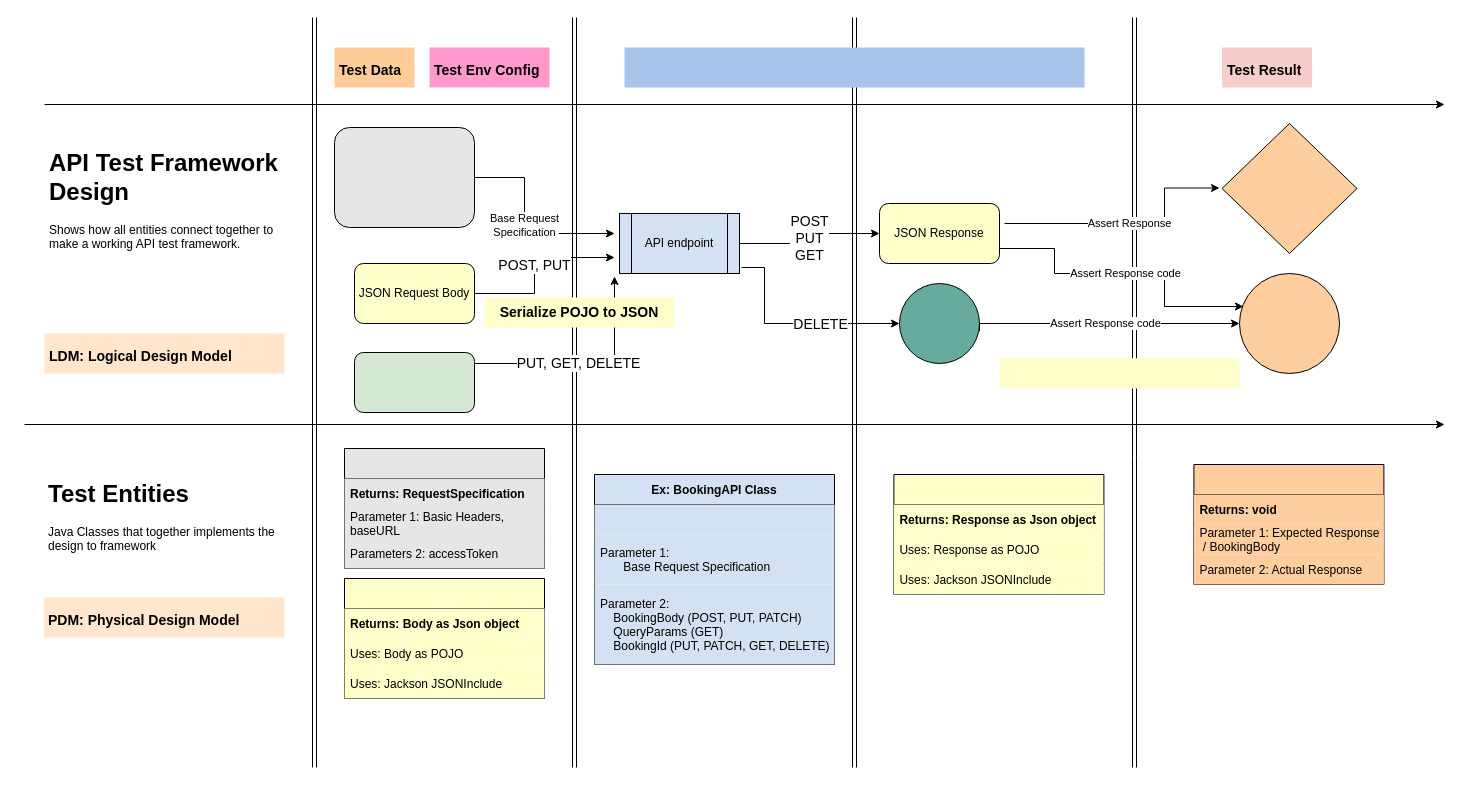
Image size: 1470x785. Some labels were removed from this diagram. The shapes that lost their labels are listed below. From the top down, each one's box as (x1, y1, x2, y2) in pixels, then its label:
(624, 47, 1084, 87): Service test or Integration test (with more than one API endpoint)
(334, 126, 474, 228): Headers - Metadata - Authorization (scope) - BaseURI - Caching - Cookies etc
(1221, 122, 1357, 254): assert(expected vs actual response)
(898, 282, 980, 364): 200 Response
(1238, 272, 1340, 374): assert (expected vs actual) response cde
(354, 352, 474, 412): ID
(999, 358, 1239, 388): Deserialize JSON to POJO
(344, 448, 544, 568): Ex: Booking Class
(594, 504, 834, 534): Returns: Response
(1193, 464, 1384, 584): Ex: AssertBooking Class
(893, 474, 1104, 594): Ex: BookingResponse Class
(344, 578, 544, 698): Ex: BookingBody Class
